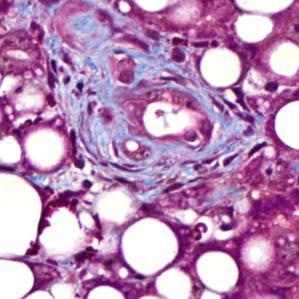steatosis: (121, 219, 181, 275), (197, 46, 243, 89), (193, 253, 235, 284)
